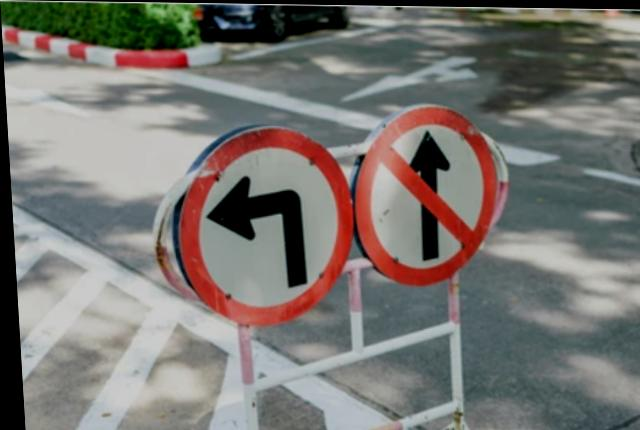not_go_straight: (351, 100, 502, 290)
